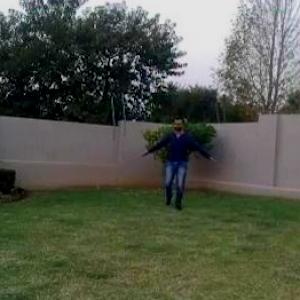land: (141, 90, 227, 228)
